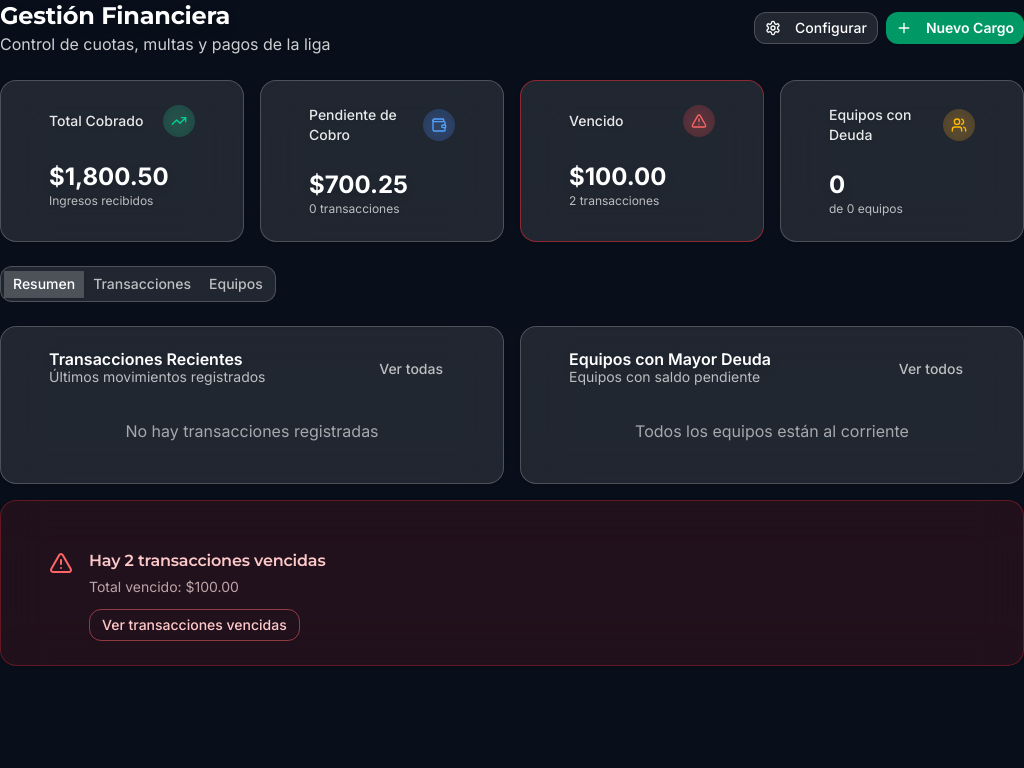
Test: Finance: Configuración Financiera › shows the API field error and keeps the dialog open
Click the button "Configurar" at (816, 28), box [754,12,878,44]
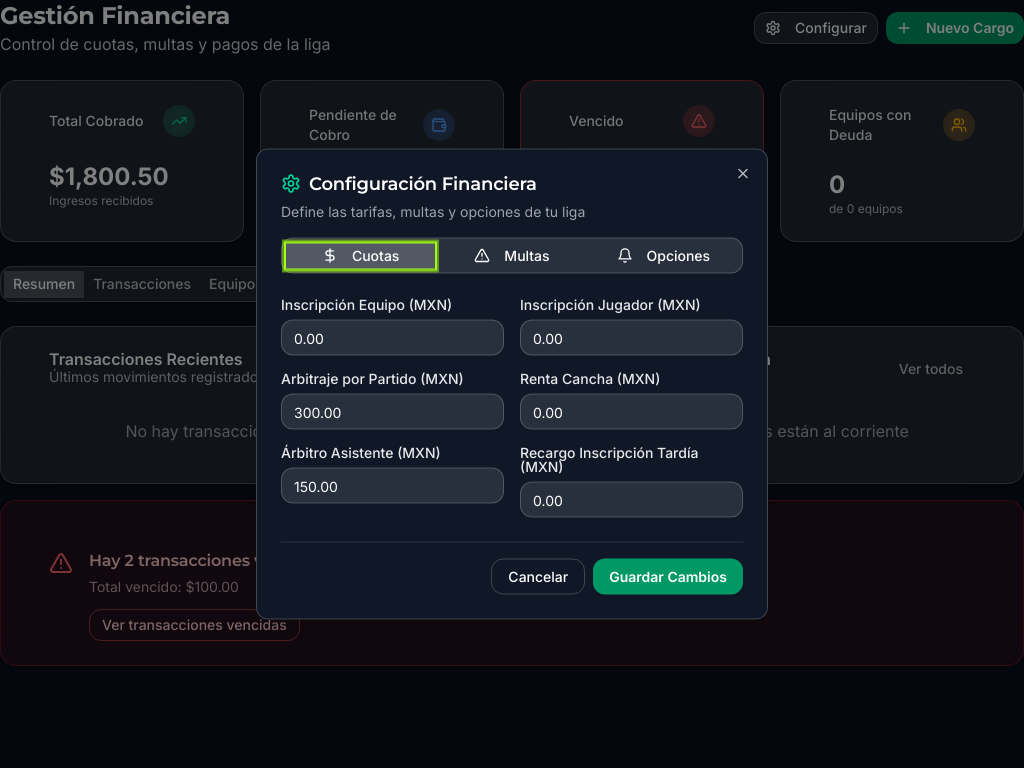
Click the button "Guardar Cambios" at (668, 576), box [593,558,743,594]
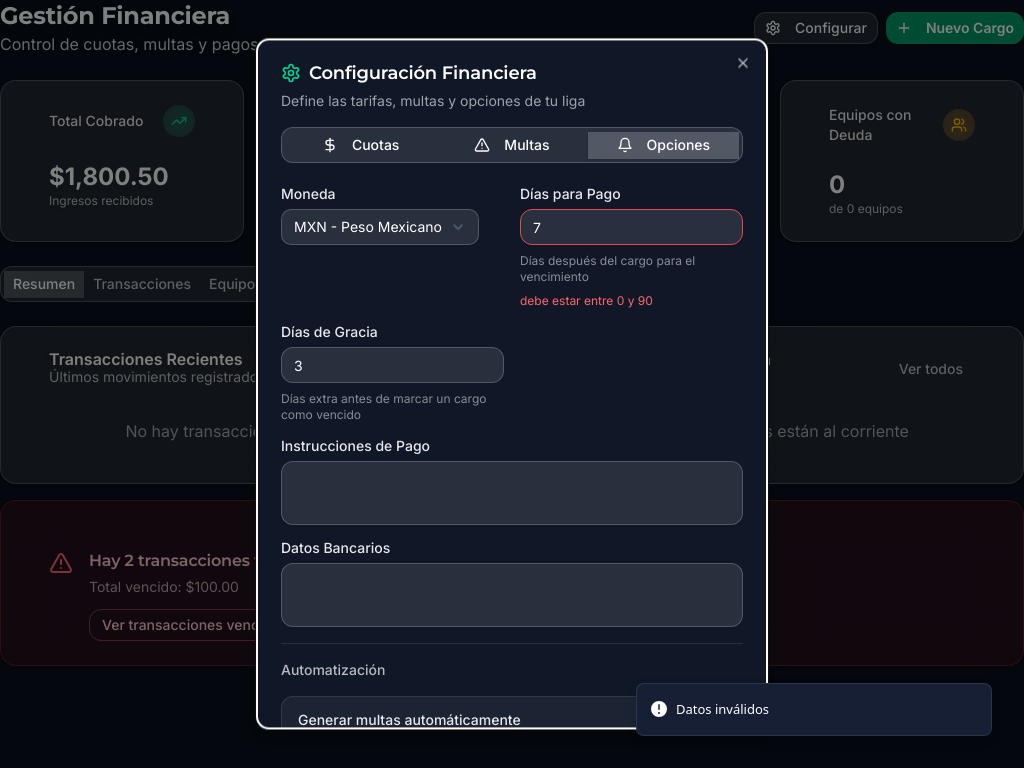
Expected: the text "debe estar entre 0 y 90" is shown, [520,293,653,308]
